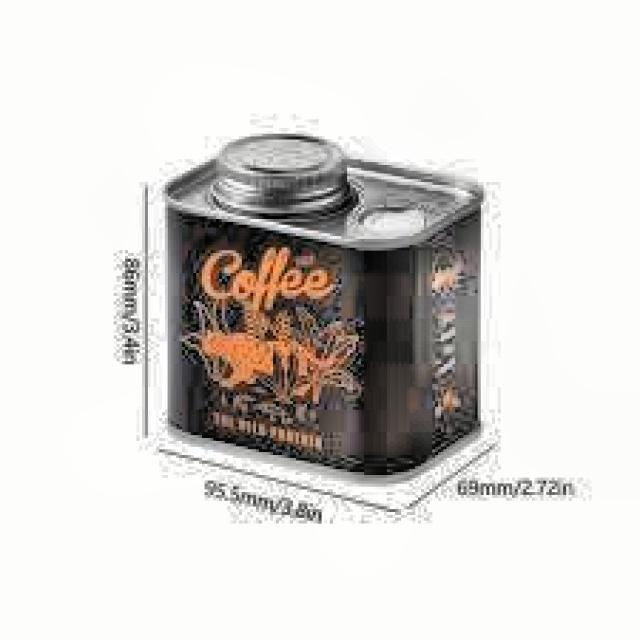can: (157, 120, 498, 483)
